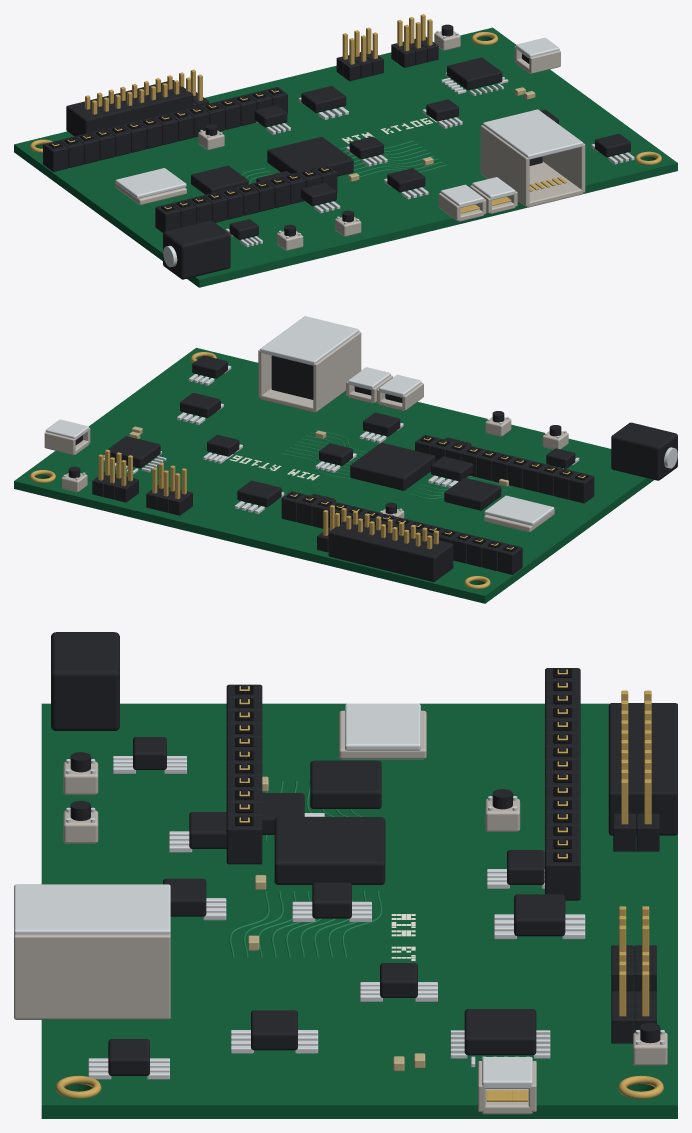
File: boards-09.glb
3 views of the same model, one above another, from view 1: azimuth 30°, elevation 25°; view 2: azimuth 150°, elevation 25°; view 3: azimuth 270°, elevation 25° (orthographic). The views are drawn at different scales.
Visible parts, largest first — view 1: board, headers, ethernet, usb, power, cpu, storage, debug, memory; view 2: board, headers, ethernet, usb, power, cpu, storage, debug, memory; view 3: board, headers, ethernet, cpu, power, storage, debug, memory, usb.
Boxes of the visible parts, <box> form: board: <box>14,24,677,287</box>; headers: <box>43,14,438,232</box>; ethernet: <box>480,109,585,207</box>; usb: <box>438,37,560,221</box>; power: <box>163,220,230,279</box>; cpu: <box>267,137,353,176</box>; storage: <box>115,168,186,205</box>; debug: <box>441,57,508,96</box>; memory: <box>191,165,248,194</box>; board: <box>14,347,653,603</box>; headers: <box>92,435,594,581</box>; ethernet: <box>258,316,361,412</box>; usb: <box>44,367,423,454</box>; power: <box>611,422,677,480</box>; cpu: <box>350,442,435,490</box>; storage: <box>484,495,554,532</box>; debug: <box>103,436,166,474</box>; memory: <box>444,478,501,510</box>; board: <box>41,703,677,1118</box>; headers: <box>226,668,677,1043</box>; ethernet: <box>14,884,170,1019</box>; cpu: <box>274,817,385,884</box>; power: <box>51,632,119,730</box>; storage: <box>339,703,426,759</box>; debug: <box>450,1009,550,1067</box>; memory: <box>310,760,381,808</box>; usb: <box>478,1057,536,1114</box>.
Size of the model in its own units: 4.36 by 0.491 by 2.88.
